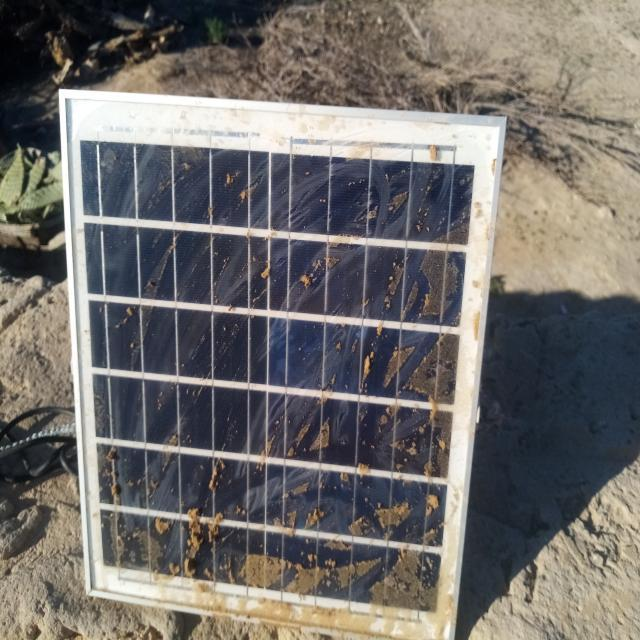faulty: (62, 96, 505, 640)
